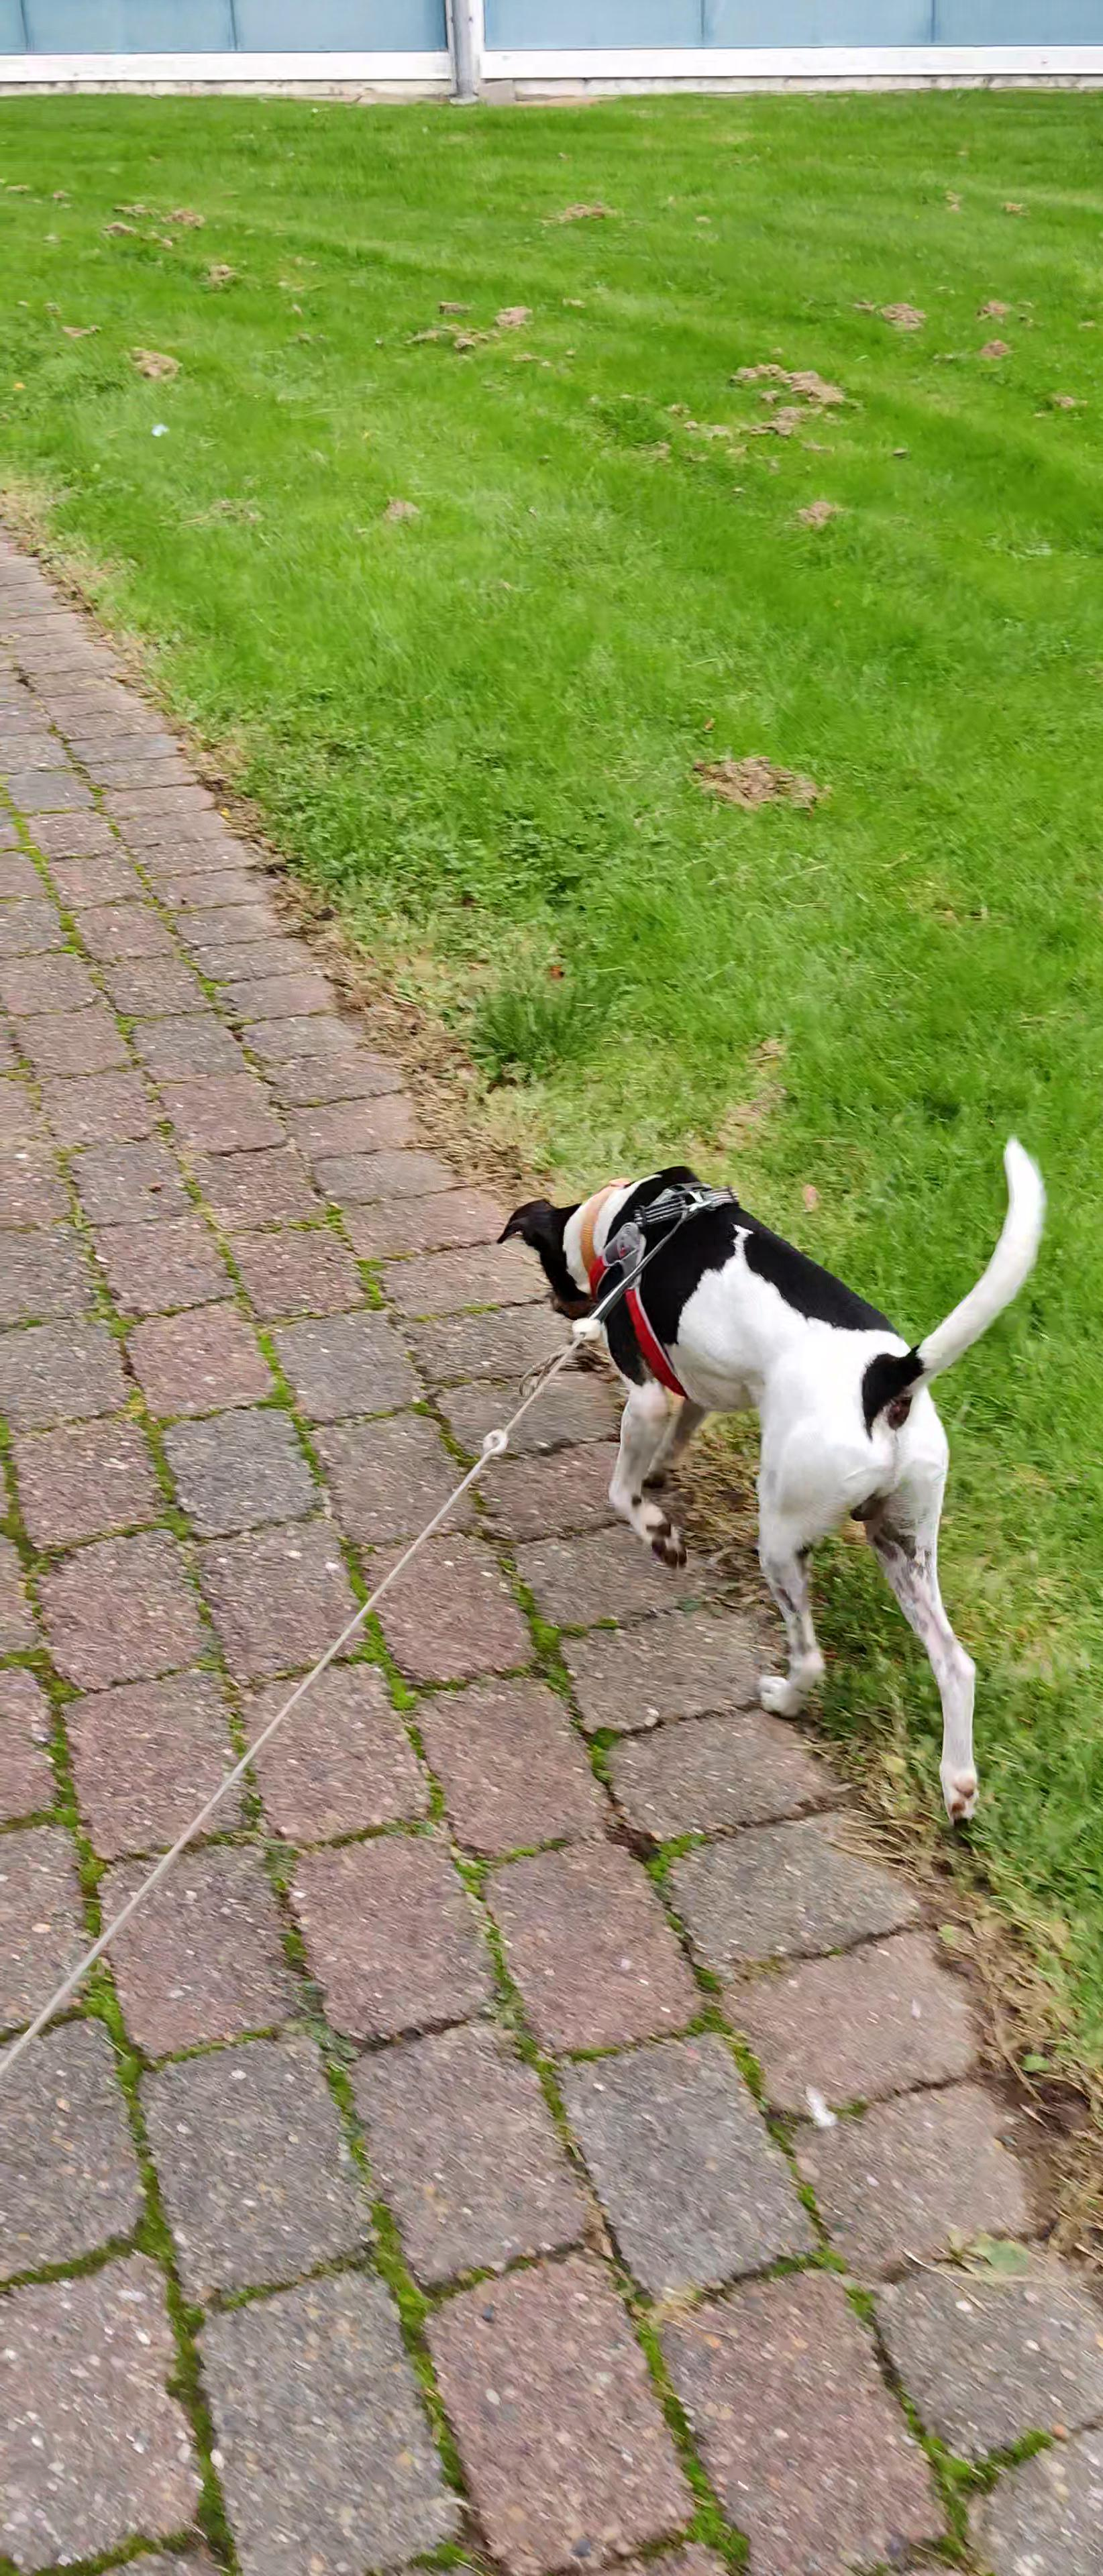Dog: (488, 1124, 1065, 1843)
